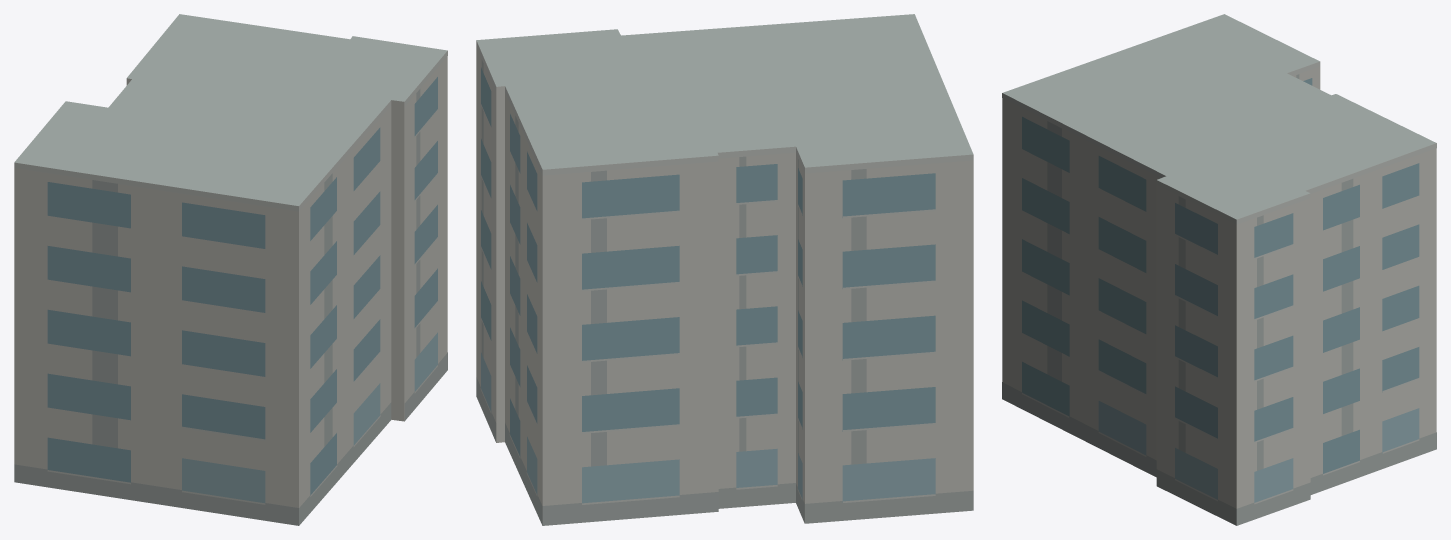
The model's file is survey-upis-32870258.glb.
3 renders of one model, left to right at view 1: azimuth 30°, elevation 25°; view 2: azimuth 150°, elevation 25°; view 3: azimuth 270°, elevation 25°, orthographic. The views are drawn at different scales.
Parts seen in each view (by area): view 1: survey-upis-32870258.tmp; view 2: survey-upis-32870258.tmp; view 3: survey-upis-32870258.tmp.
Boxes of the visible parts, x1,y1,x2,y2 form: survey-upis-32870258.tmp: (14,14,447,525); survey-upis-32870258.tmp: (476,14,973,525); survey-upis-32870258.tmp: (1002,14,1436,525).
Size of the model in its own units: 20.75 by 14.4 by 18.53.
